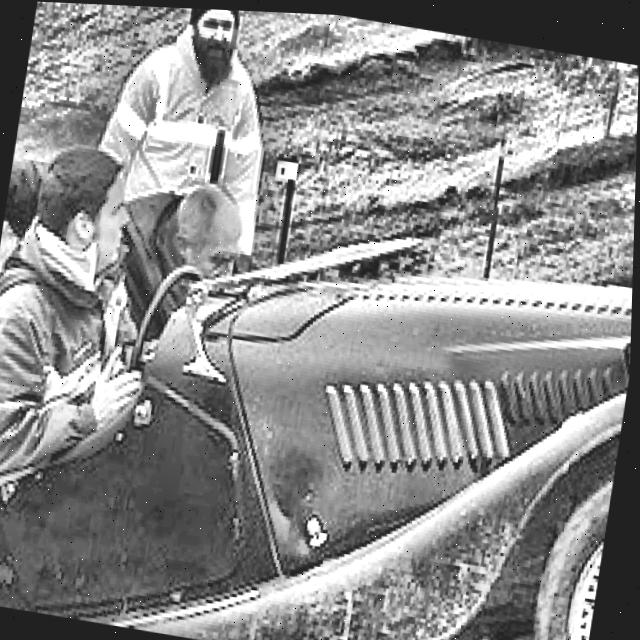light_vehicle: (0, 159, 636, 640)
